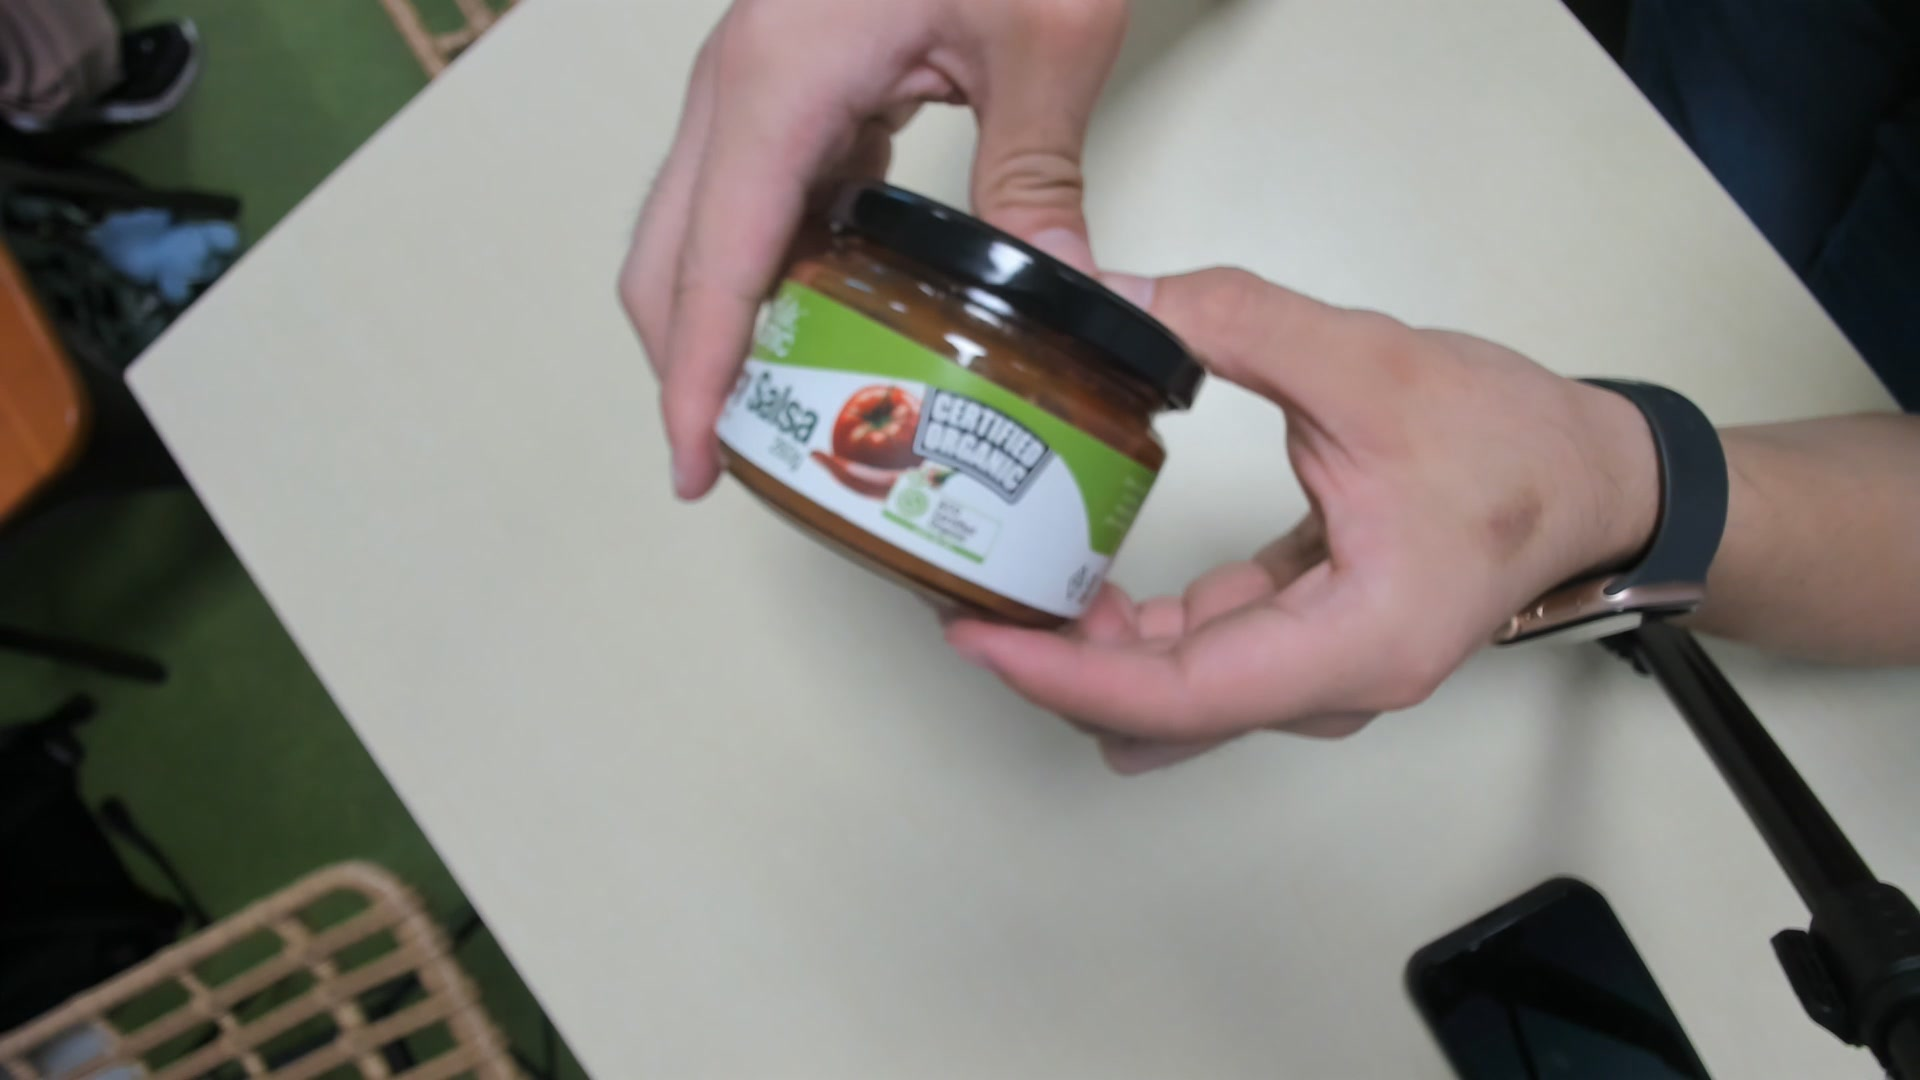OtherSauceDressing_200-299g_NonHalal_NonHealthy: (709, 187, 1193, 634)
